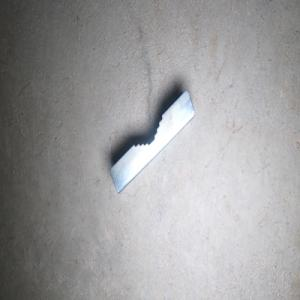ClampPart: (109, 88, 196, 195)
